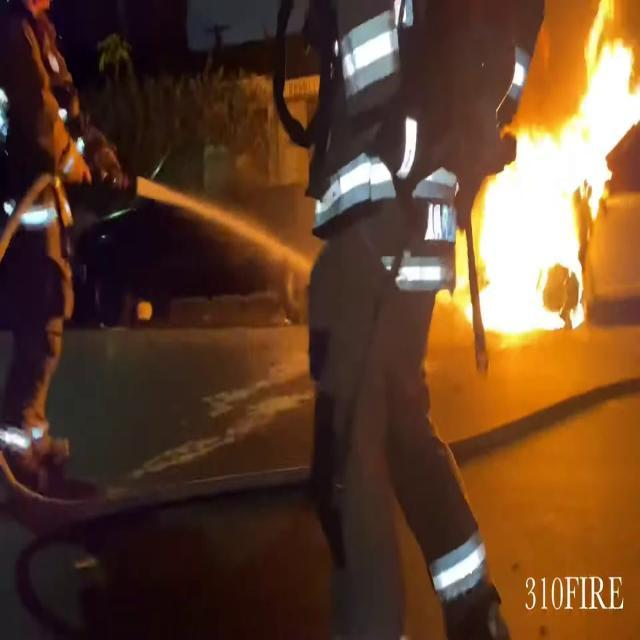Fire: (466, 1, 640, 354)
